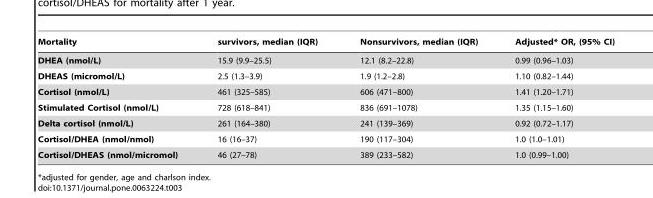table: (37, 37, 614, 159)
table column: (37, 37, 196, 159), (338, 37, 495, 159), (196, 37, 338, 159), (495, 37, 614, 159)
table column header: (37, 37, 614, 50)
table row: (37, 50, 614, 68), (37, 83, 614, 99), (37, 99, 614, 115), (37, 115, 614, 131), (37, 68, 614, 83), (37, 131, 614, 146), (37, 37, 614, 50), (37, 146, 614, 159)
